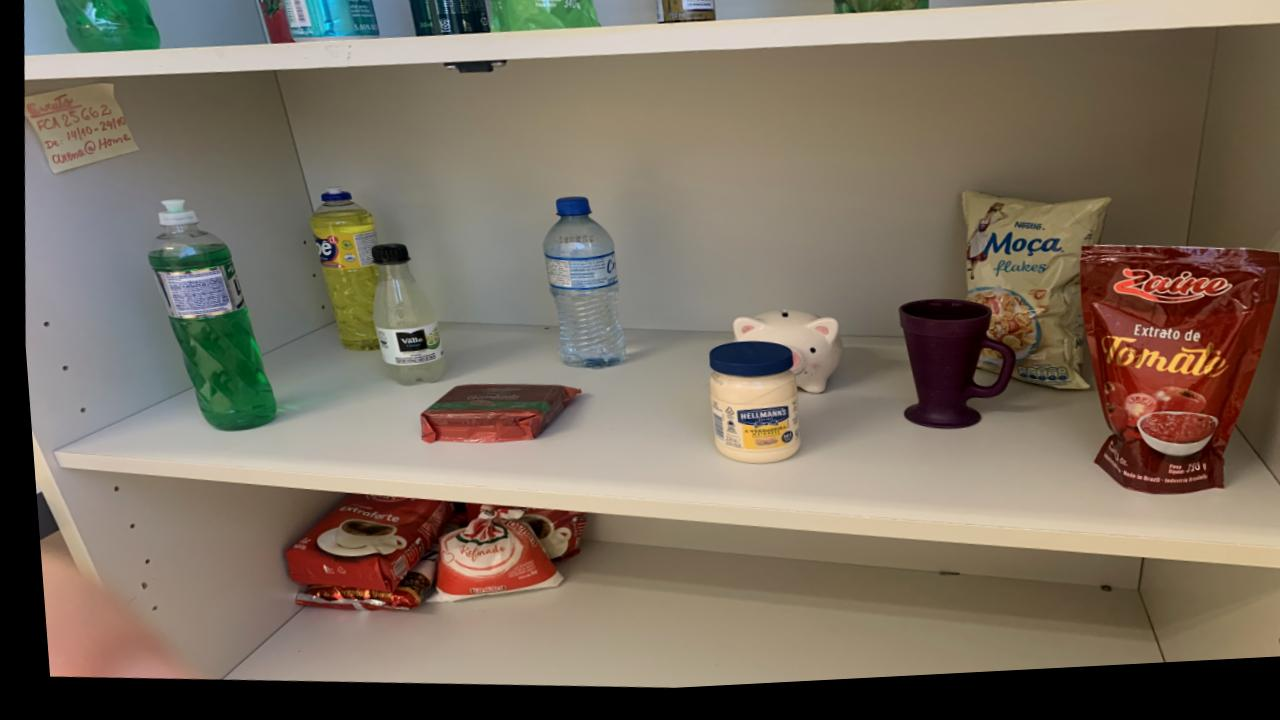Detergent-Cleanup_Items: (143, 201, 269, 432), (306, 195, 373, 354), (54, 0, 158, 53)
English_Sauce-Pantry_Items: (655, 0, 715, 30)
Flakes-Snacks: (958, 200, 1106, 400), (971, 360, 994, 381)
Guarana-Drinks: (832, 0, 928, 22)
Guarana_Can-Drinks: (407, 0, 489, 40)
Guava-Snacks: (414, 388, 573, 447)
Mayonnaise-Pantry_Items: (703, 348, 793, 470)
Mustard-Pantry_Items: (1098, 0, 1219, 11)
Pig_Safe-Miscellaneous: (726, 318, 836, 402)
Soda-Drinks: (368, 247, 438, 390)
Tea-Drinks: (282, 0, 379, 46)
Tomato_Sauce-Pantry_Items: (1075, 256, 1273, 506), (484, 0, 599, 37), (254, 0, 294, 45)
Water_Bottle-Drinks: (539, 202, 621, 373)
